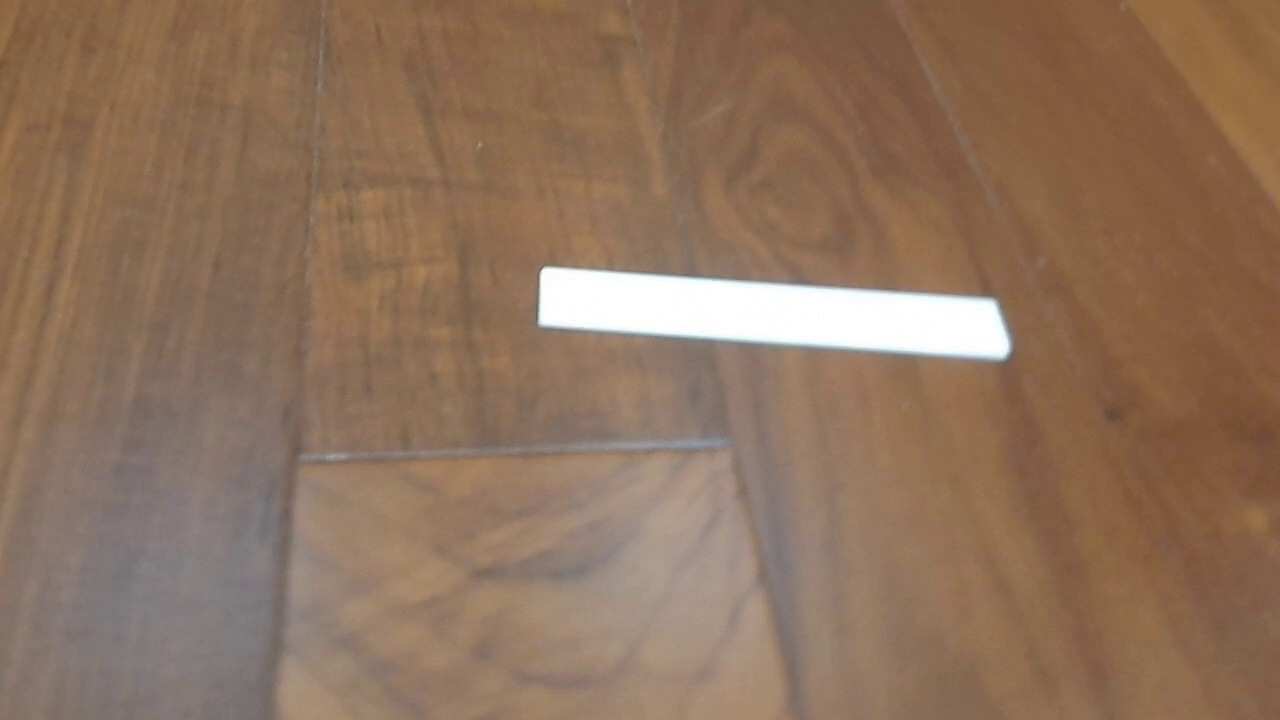ruler: (537, 265, 1013, 362)
